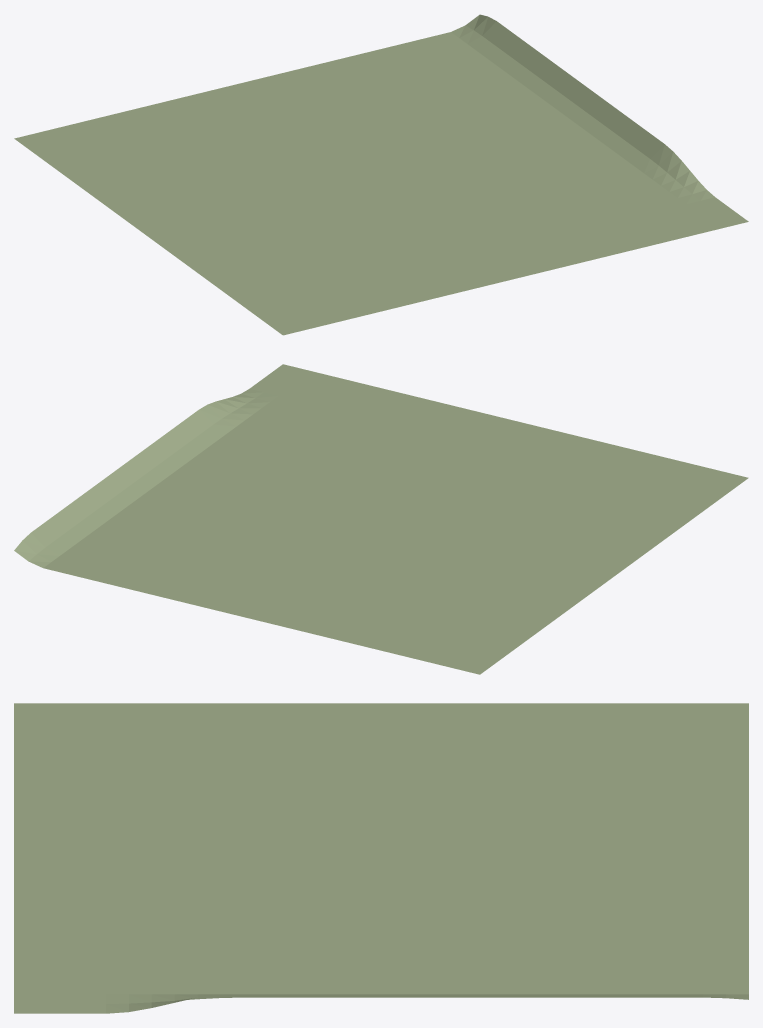
Rendered from railway-0-2.glb.
3 renders of one model, top to bottom at view 1: azimuth 30°, elevation 25°; view 2: azimuth 150°, elevation 25°; view 3: azimuth 270°, elevation 25°, orthographic. The views are drawn at different scales.
Visible parts, largest first — view 1: railway-0-2; view 2: railway-0-2; view 3: railway-0-2.
Boxes of the visible parts, x1=… form: railway-0-2: x1=14, y1=14, x2=748, y2=335; railway-0-2: x1=14, y1=364, x2=748, y2=674; railway-0-2: x1=14, y1=703, x2=748, y2=1013.
Bounding box in the file's own units: 128 × 4.23 × 128.
